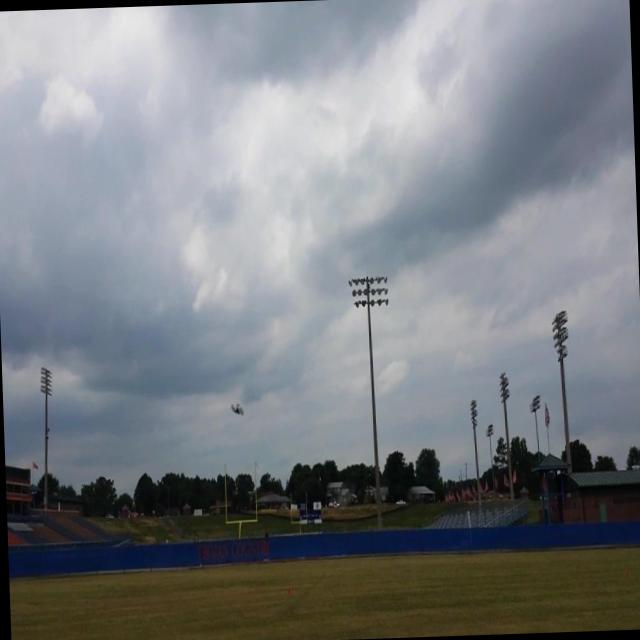drone: (230, 402, 247, 421)
